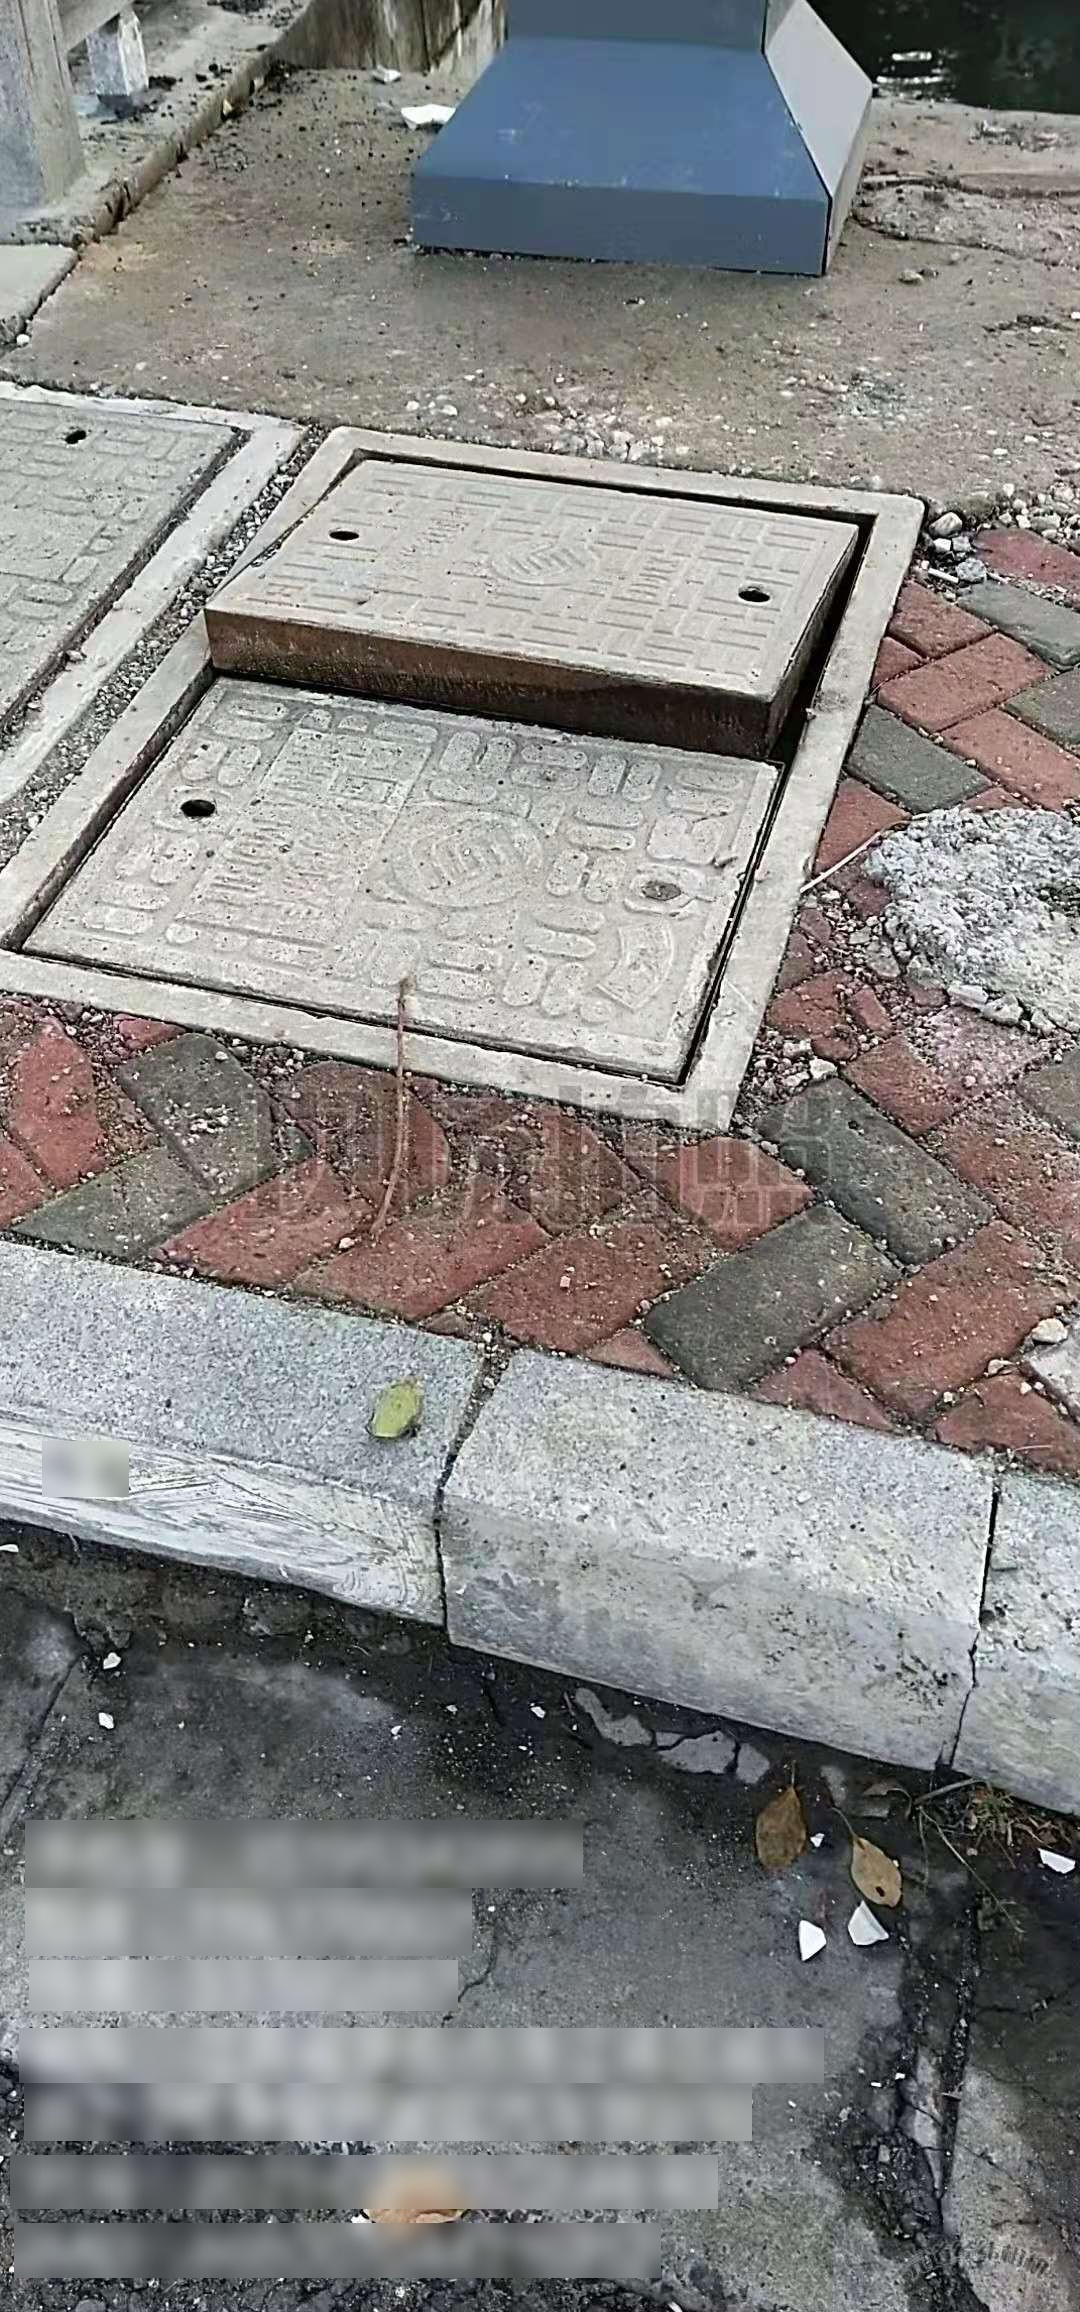well: (0, 422, 921, 1129)
